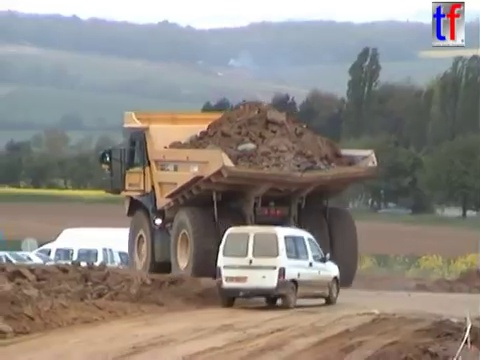truck: (97, 109, 381, 292)
